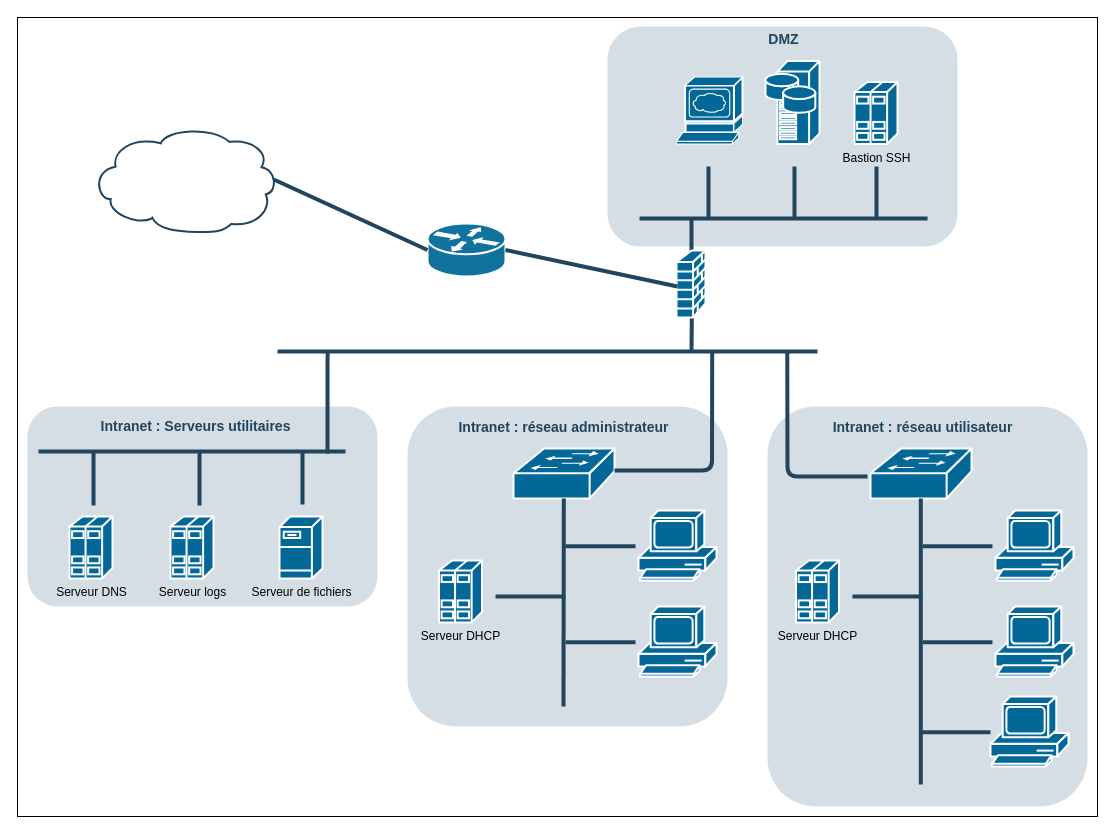
Some shapes in this 1115 by 834 pixel diagram are drawn without their labels. The box of each missing label's shape, as (x1, y1, x2, y2) in pixels:
Internet: (90, 125, 278, 233)
SGBD: (764, 60, 820, 144)
Web Server: (675, 76, 743, 144)
